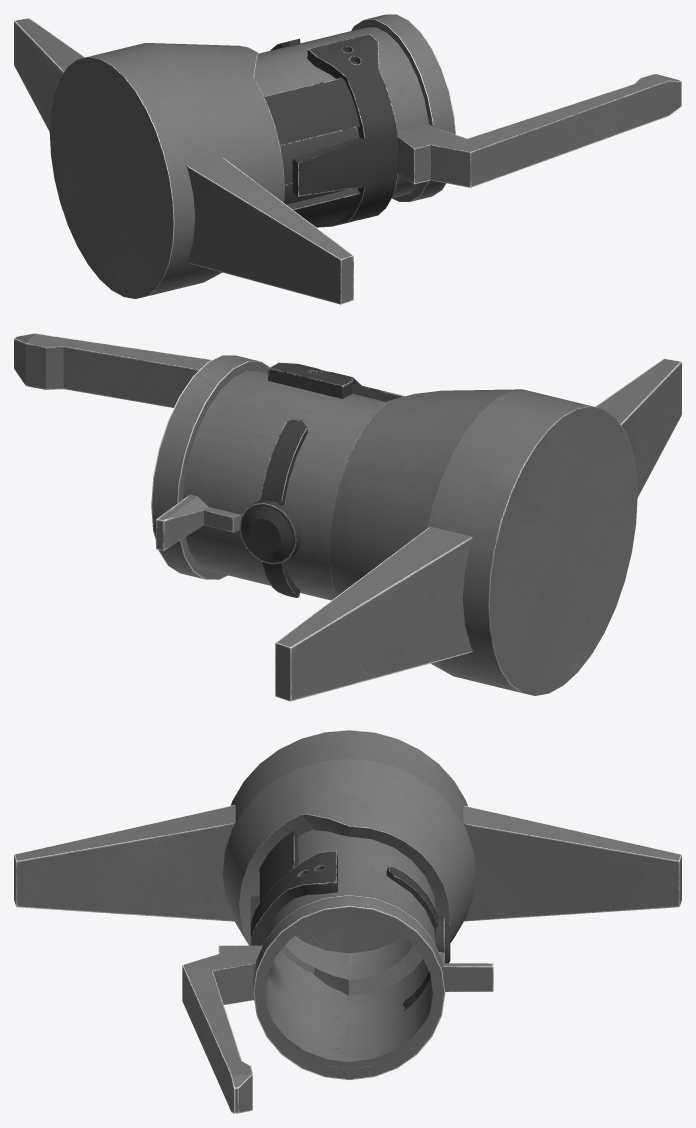
Rendered from guard_18_r_a.glb.
3 views of the same model, one above another, from view 1: azimuth 30°, elevation 25°; view 2: azimuth 150°, elevation 25°; view 3: azimuth 270°, elevation 25° (orthographic). The views are drawn at different scales.
Parts seen in each view (by area): view 1: guard_18_r_a_lod0; view 2: guard_18_r_a_lod0; view 3: guard_18_r_a_lod0.
Part boxes in pixels (x1,y1,x2,y2): guard_18_r_a_lod0: (14,14,681,304); guard_18_r_a_lod0: (14,333,681,701); guard_18_r_a_lod0: (14,730,681,1113).
Size of what is drawn, in the model's own units: 0.0879 by 0.0367 by 0.0968.
Materials: 1 (1 with a texture image).
